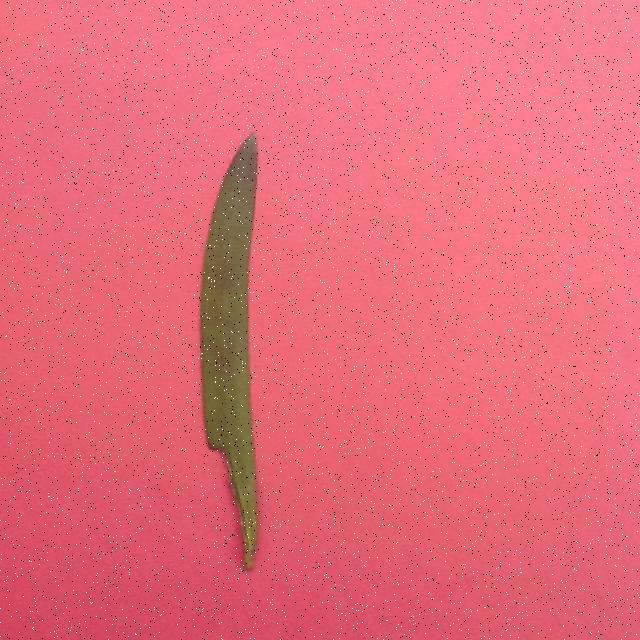foliage: (198, 130, 269, 577)
